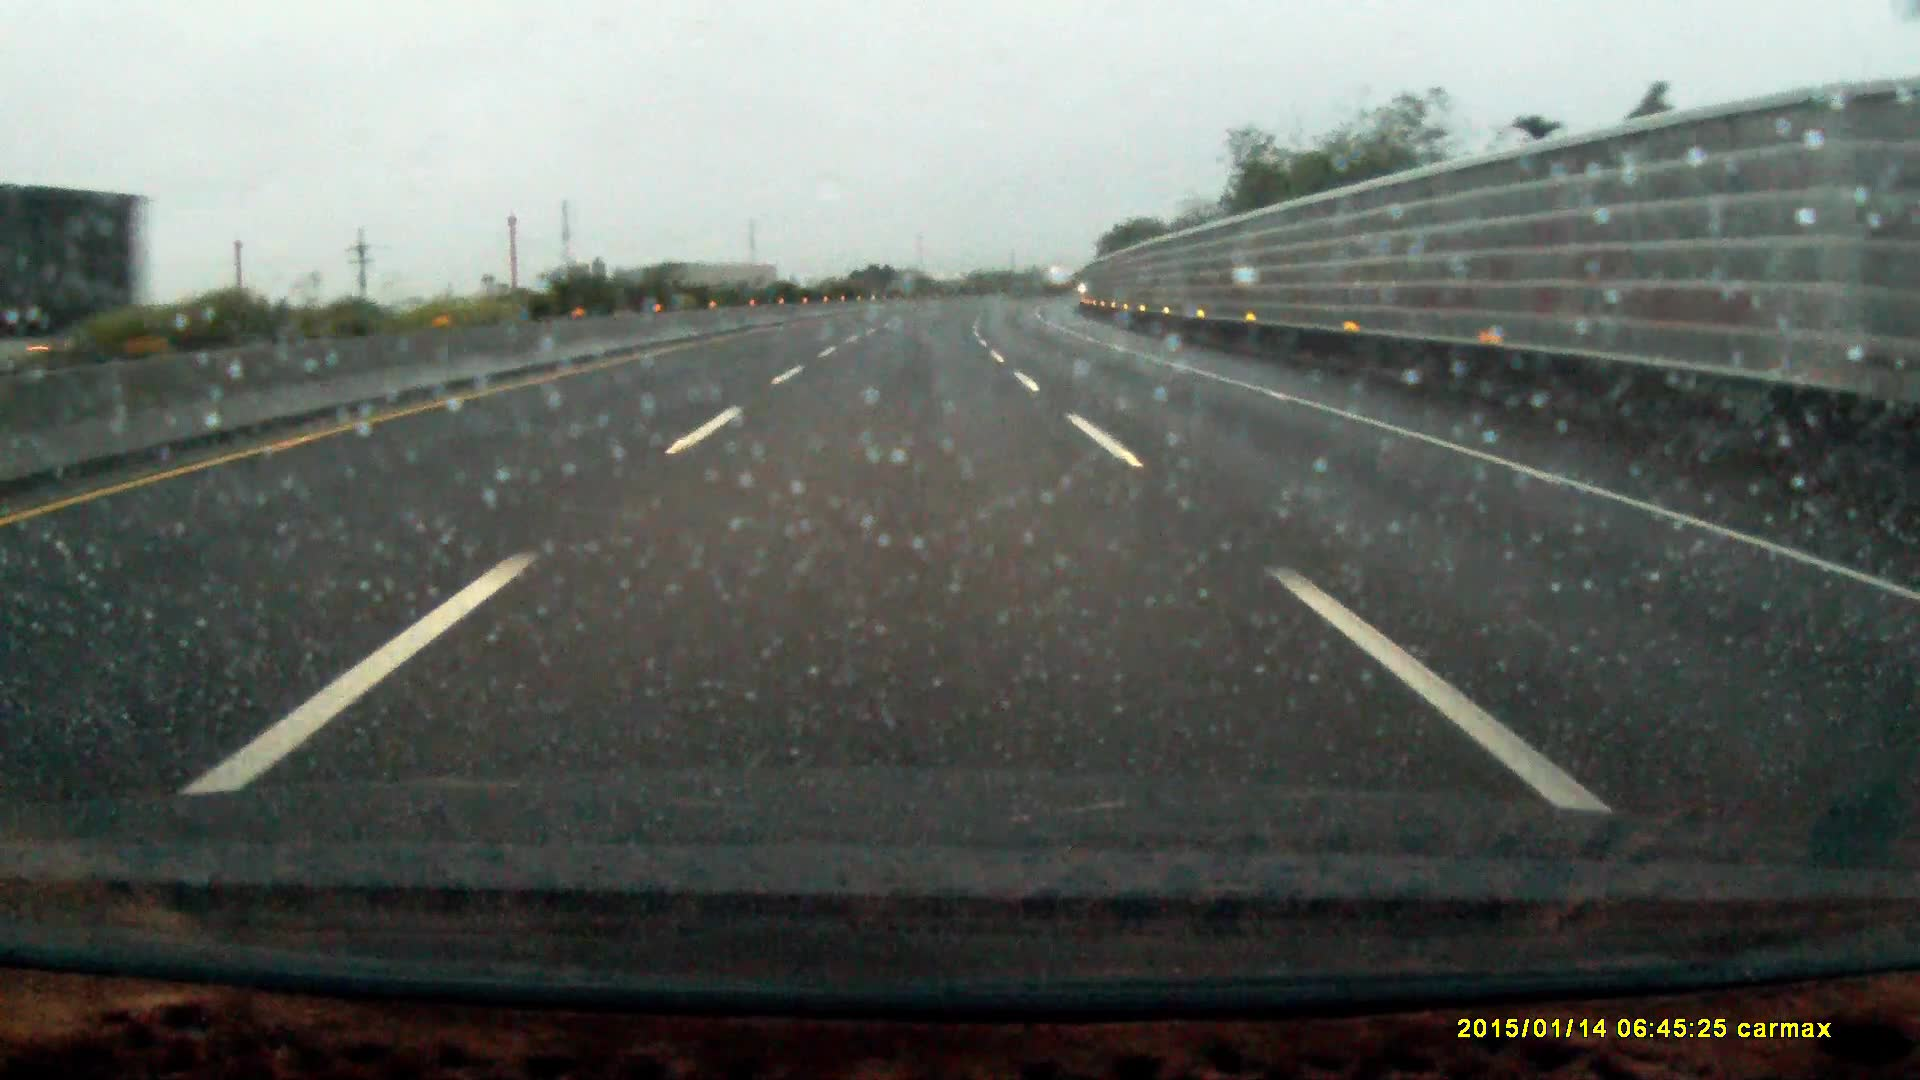vehicle: (1, 190, 161, 373)
